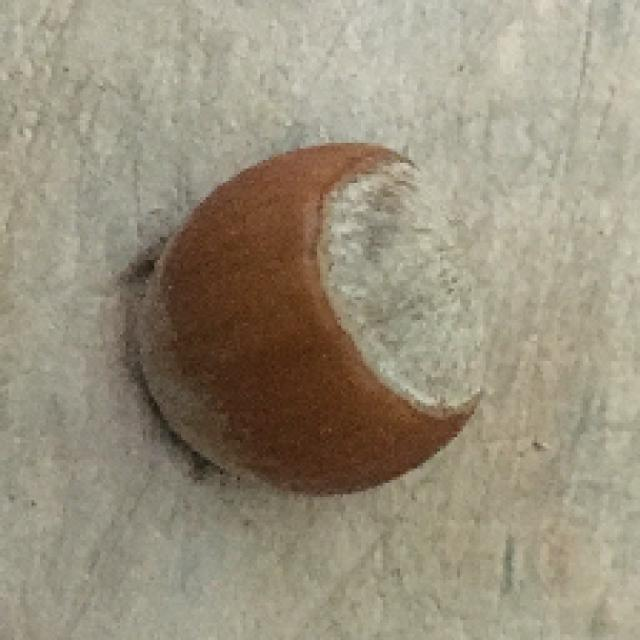qualityHazelnut: (132, 138, 490, 499)
